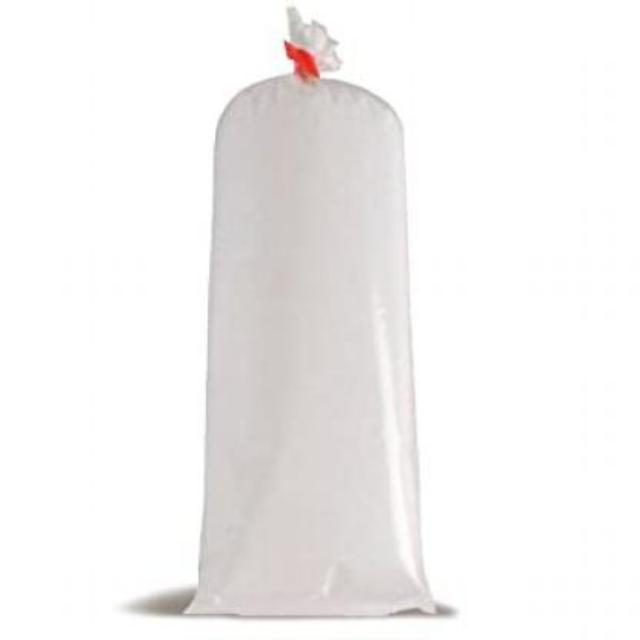sacola plástica: (183, 38, 449, 628)
